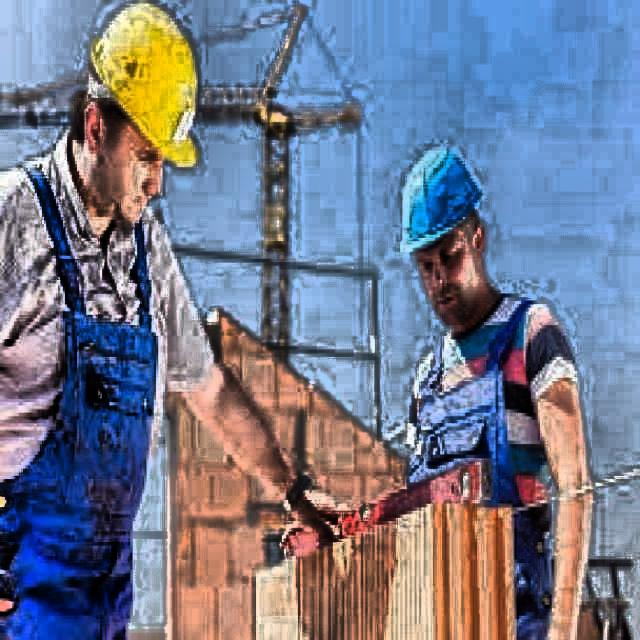bull_dozer/loader/grader: (1, 0, 364, 366)
person: (0, 0, 354, 640), (395, 140, 596, 640)
